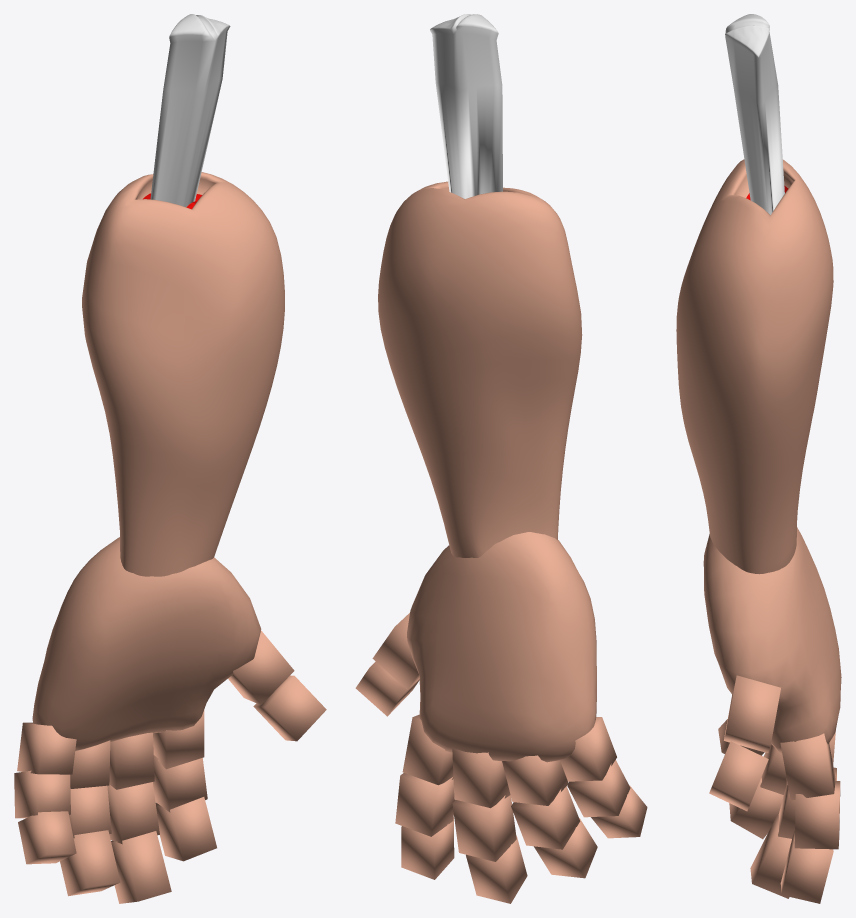
The model's file is Hand_Ggj.fbx.
The picture shows the model from 3 angles, left to right: view 1: azimuth 30°, elevation 25°; view 2: azimuth 150°, elevation 25°; view 3: azimuth 270°, elevation 25°; orthographic projection. The views are drawn at different scales.
Parts seen in each view (by area): view 1: Arm; view 2: Arm; view 3: Arm.
Boxes of the visible parts, left/top/right/bottom form: Arm: left=14, top=14, right=326, bottom=903; Arm: left=355, top=14, right=647, bottom=903; Arm: left=676, top=14, right=841, bottom=903.
Size of the model in its own units: 51.5 by 150 by 25.07.
